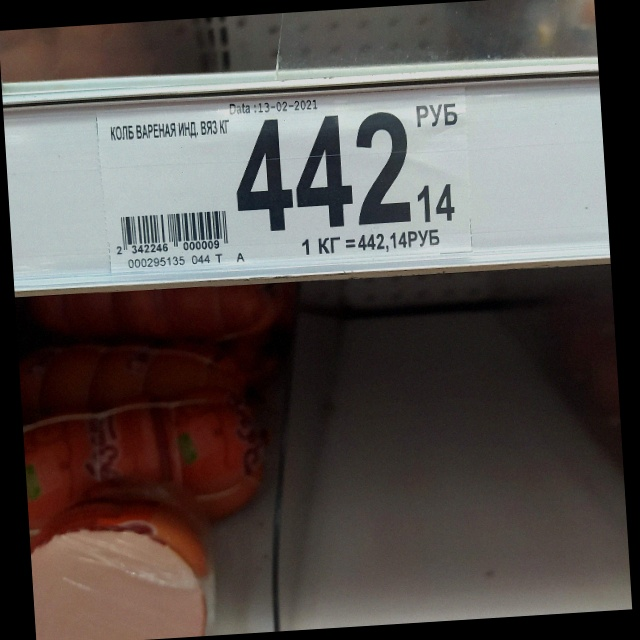barcode: (114, 212, 231, 254)
name: (108, 118, 232, 144)
price: (235, 115, 458, 237)
price_tag: (103, 82, 467, 273)
